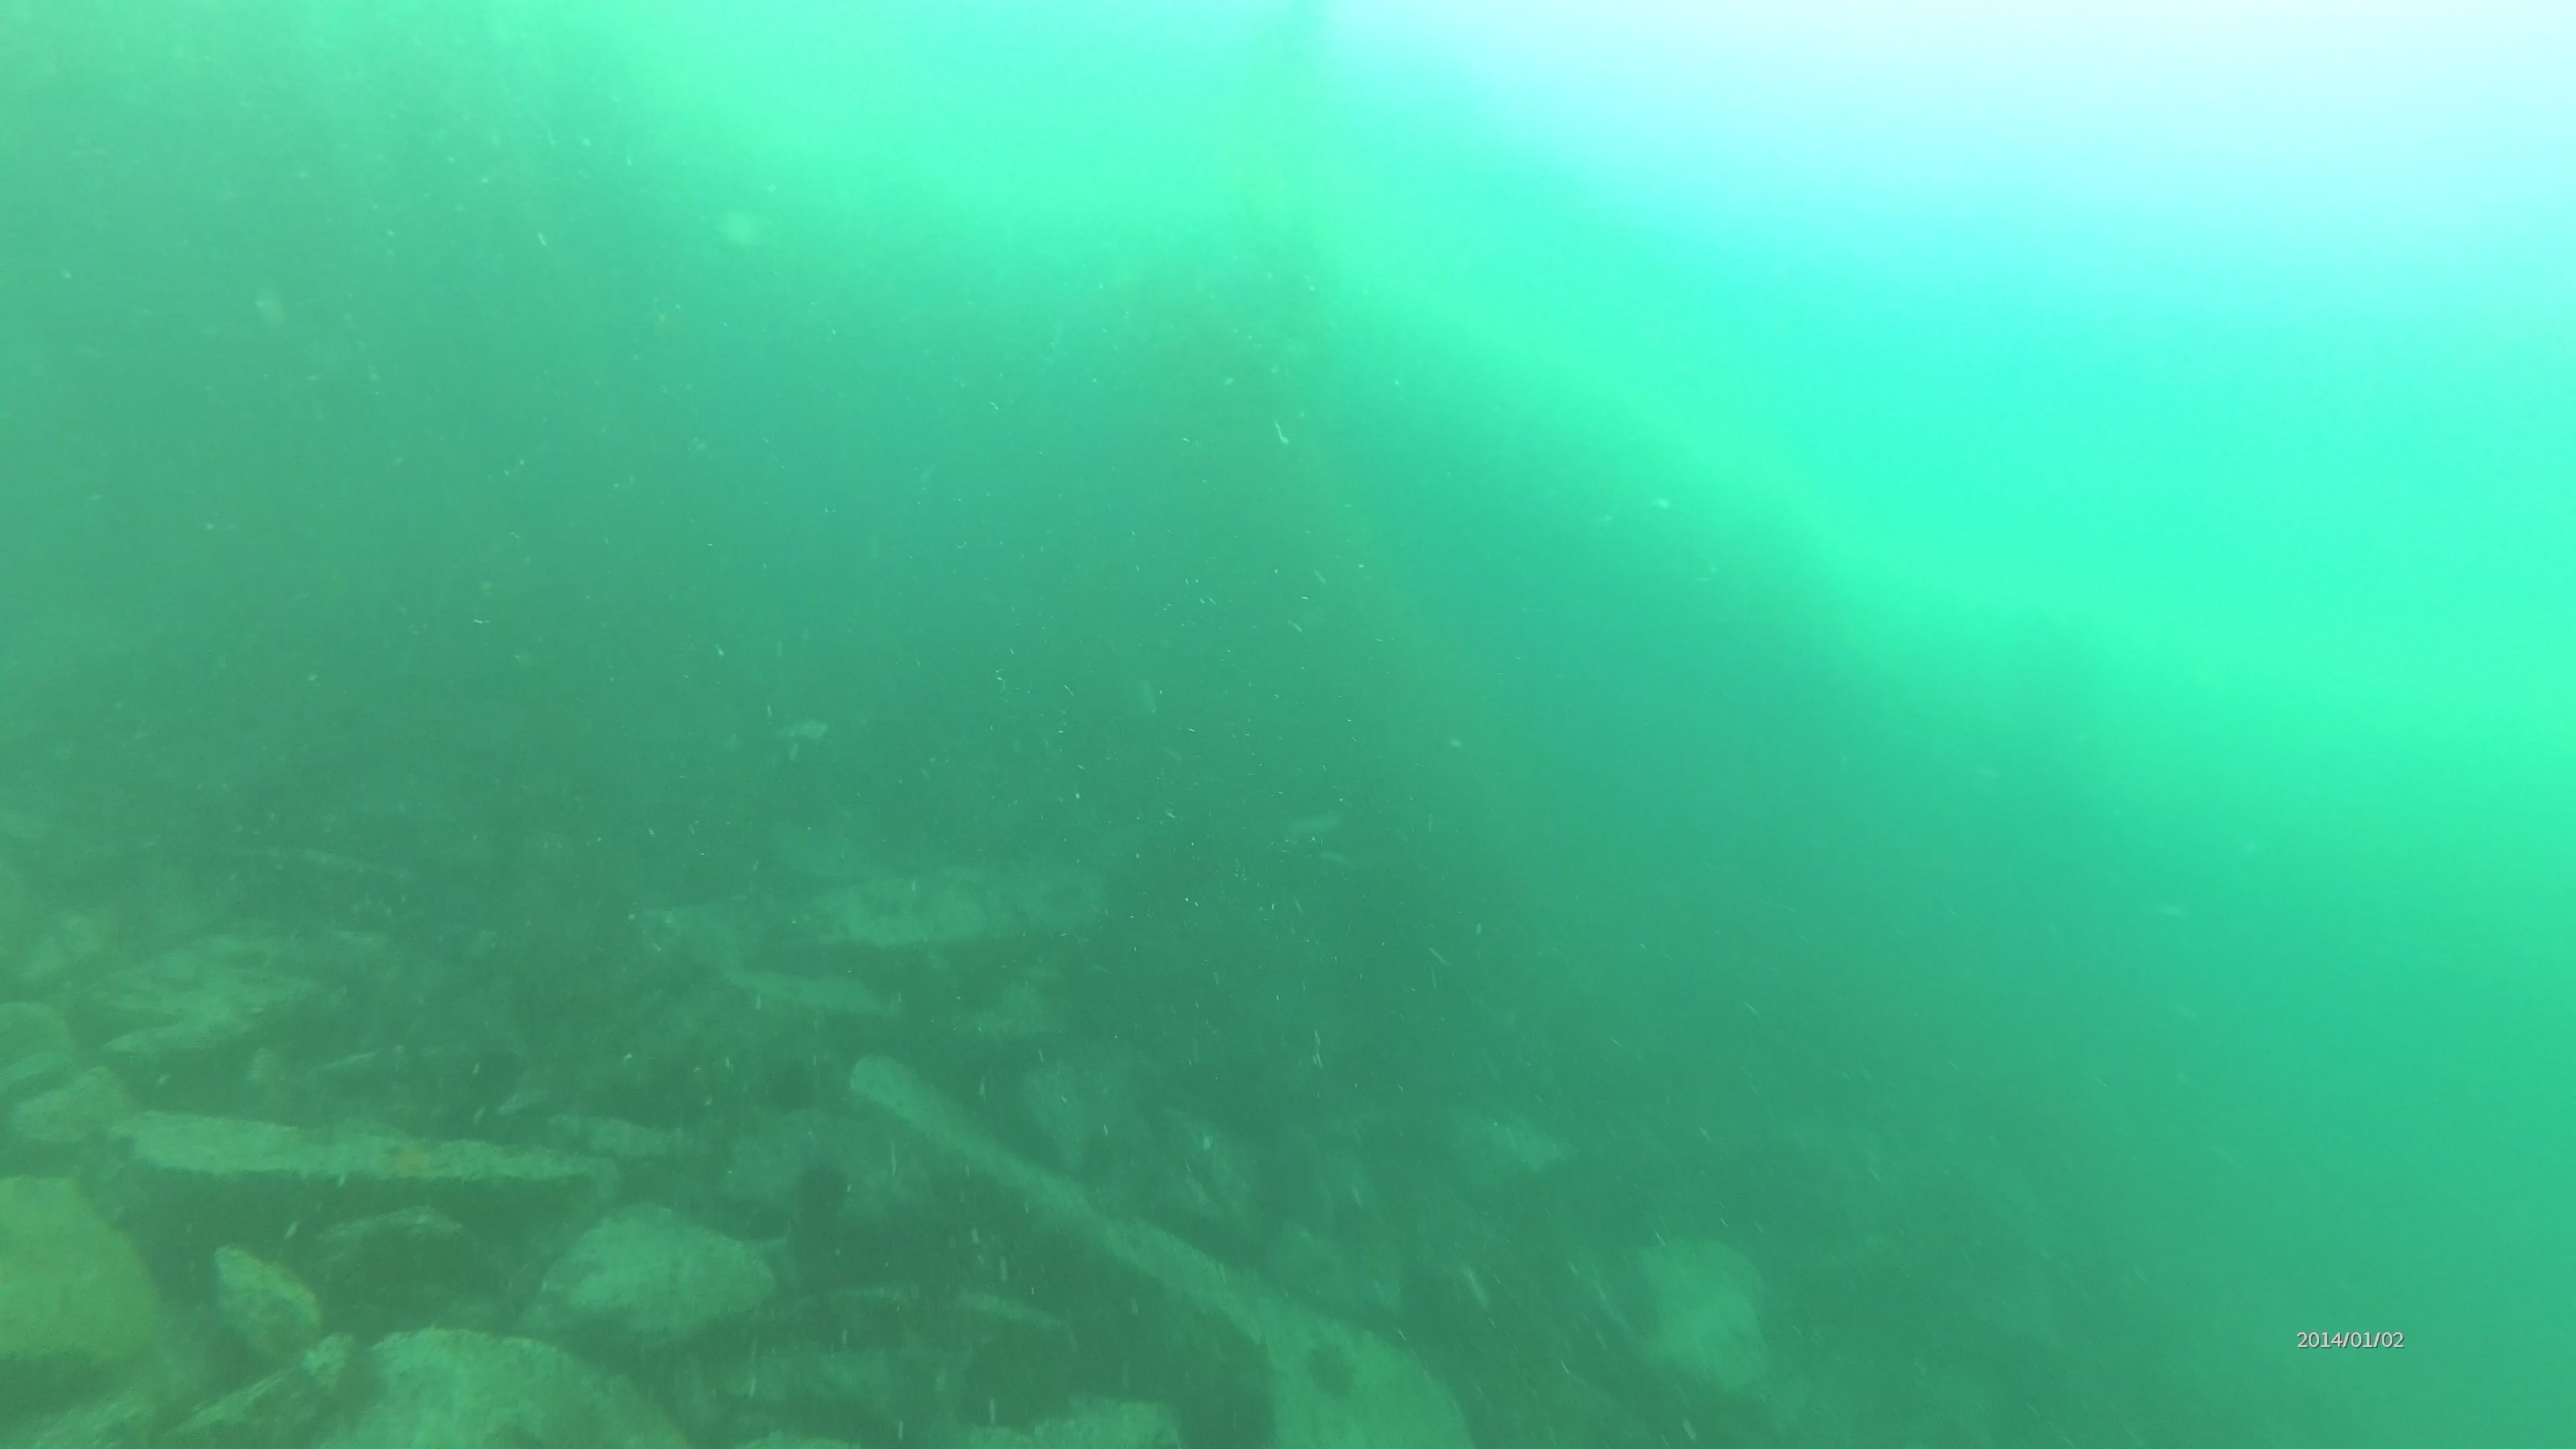echinus: (778, 1150, 862, 1237), (1307, 1343, 1355, 1398), (770, 1058, 817, 1102)
starfish: (373, 1127, 448, 1189)
